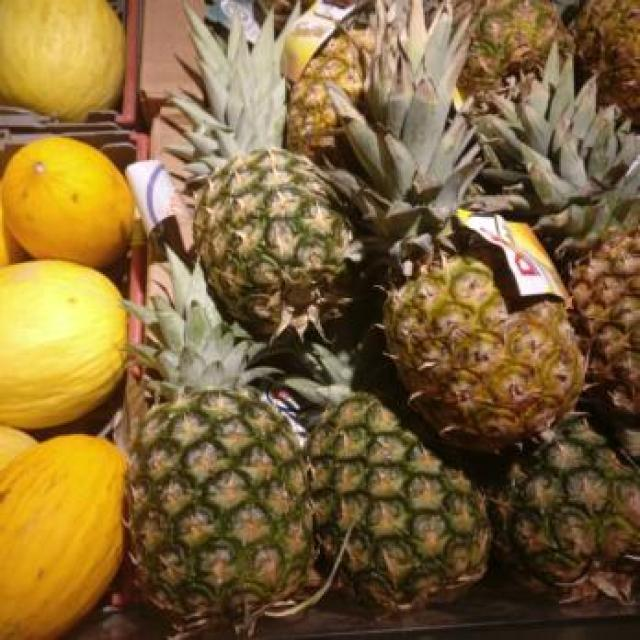pineapple: (326, 0, 584, 452), (130, 250, 314, 629), (478, 46, 640, 459), (171, 9, 352, 338), (284, 332, 491, 609), (495, 414, 640, 598), (284, 0, 364, 144), (456, 0, 572, 96)
